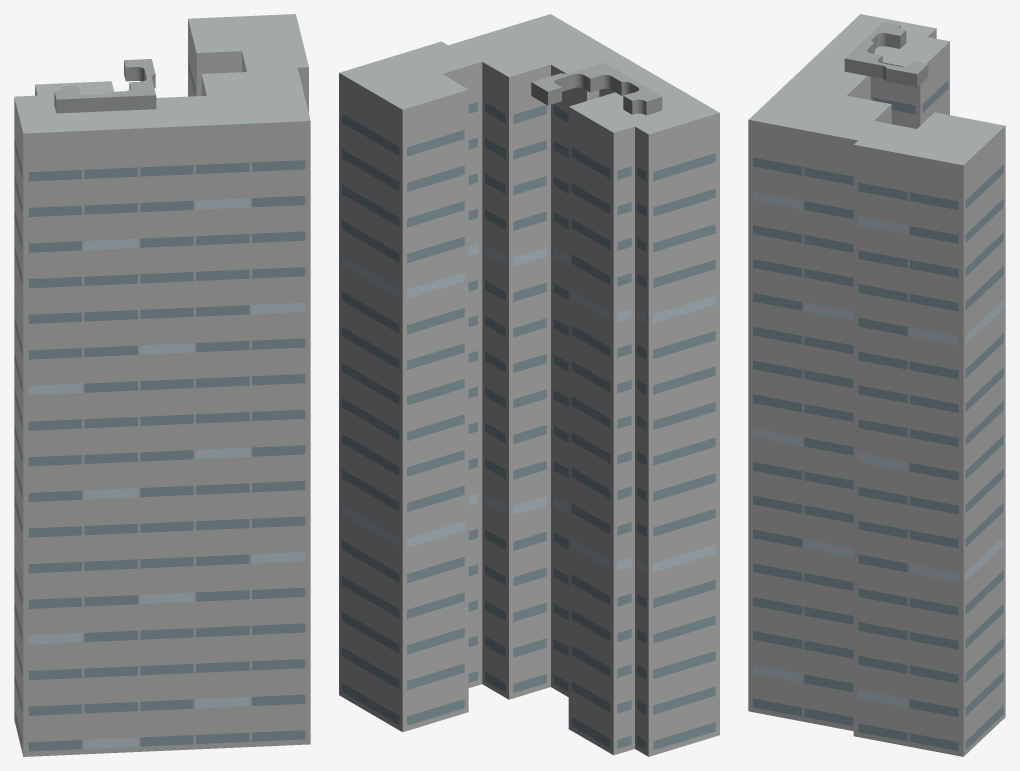
Rendered from fallback-seocho-grand-xi-102.glb.
3 views of the same model, side by side, from view 1: azimuth 30°, elevation 25°; view 2: azimuth 150°, elevation 25°; view 3: azimuth 270°, elevation 25° (orthographic). The views are drawn at different scales.
Parts seen in each view (by area): view 1: fallback-seocho-grand-xi-102; view 2: fallback-seocho-grand-xi-102; view 3: fallback-seocho-grand-xi-102.
Boxes of the visible parts, box(x1,y1,x2,y2) form: fallback-seocho-grand-xi-102: box(14, 14, 310, 756); fallback-seocho-grand-xi-102: box(339, 14, 719, 756); fallback-seocho-grand-xi-102: box(748, 14, 1005, 756).
Bounding box in the file's own units: 59.06 × 110 × 42.37.
